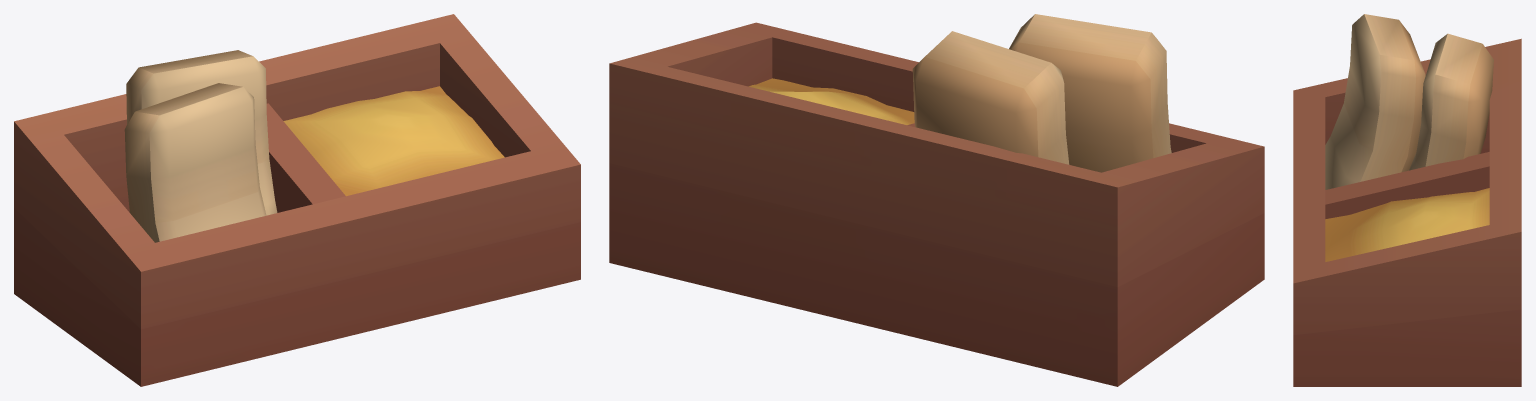
The model's file is crate_long_c.glb.
3 views of the same model, side by side, from view 1: azimuth 30°, elevation 25°; view 2: azimuth 150°, elevation 25°; view 3: azimuth 270°, elevation 25° (orthographic). The views are drawn at different scales.
Parts seen in each view (by area): view 1: crate_long_C; view 2: crate_long_C; view 3: crate_long_C.
Boxes of the visible parts, <box> form: crate_long_C: <box>14,14,580,386</box>; crate_long_C: <box>609,14,1264,386</box>; crate_long_C: <box>1293,14,1521,386</box>.
Bounding box in the file's own units: 0.4 × 0.1986 × 0.2.
Materials: 1 (1 with a texture image).
